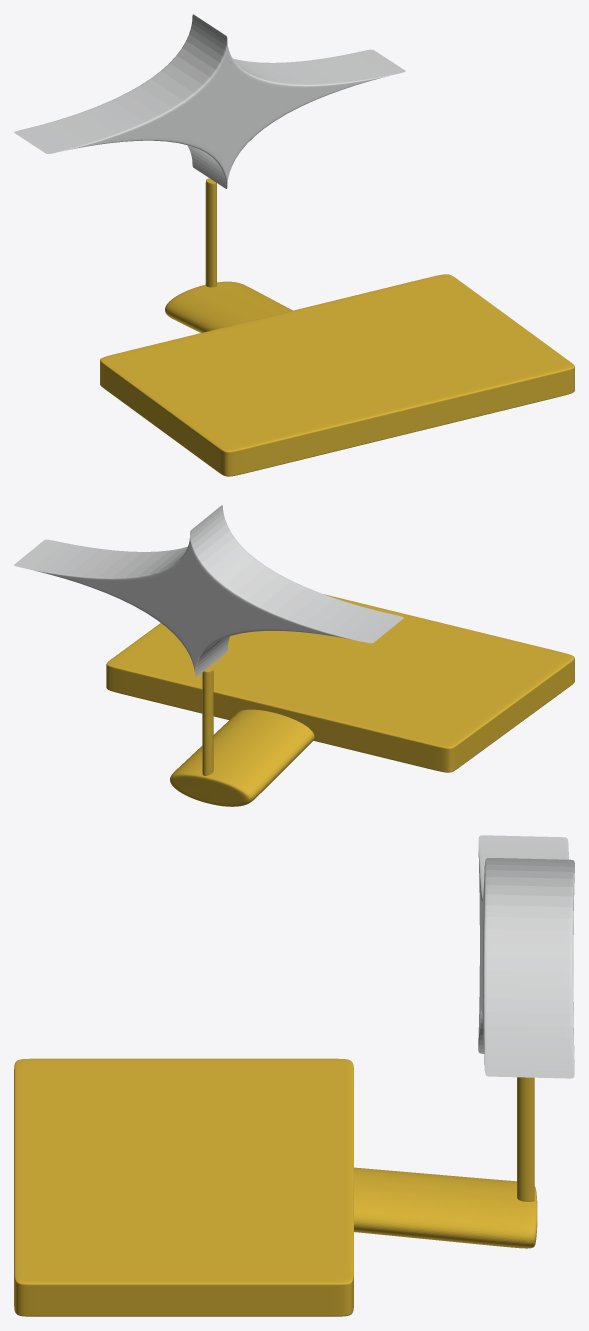
Rendered from 19_monitor_with_an_attached_keyboard_sq.glb.
The picture shows the model from 3 angles, top to bottom: view 1: azimuth 30°, elevation 25°; view 2: azimuth 150°, elevation 25°; view 3: azimuth 270°, elevation 25°; orthographic projection. The views are drawn at different scales.
Visible parts, largest first — view 1: superquadric_2, superquadric_0, superquadric_1, superquadric_3; view 2: superquadric_2, superquadric_0, superquadric_1, superquadric_3; view 3: superquadric_2, superquadric_0, superquadric_1, superquadric_3.
Boxes of the visible parts, x1=… form: superquadric_2: x1=100, y1=274, x2=574, y2=476; superquadric_0: x1=14, y1=14, x2=405, y2=188; superquadric_1: x1=165, y1=281, x2=292, y2=332; superquadric_3: x1=205, y1=178, x2=216, y2=287; superquadric_2: x1=106, y1=594, x2=574, y2=772; superquadric_0: x1=14, y1=505, x2=403, y2=677; superquadric_1: x1=170, y1=709, x2=314, y2=806; superquadric_3: x1=202, y1=666, x2=213, y2=775; superquadric_2: x1=14, y1=1058, x2=353, y2=1316; superquadric_0: x1=478, y1=835, x2=574, y2=1078; superquadric_1: x1=354, y1=1167, x2=537, y2=1248; superquadric_3: x1=517, y1=1077, x2=534, y2=1201.
Bounding box in the file's own units: 0.9797 × 0.7484 × 1.
